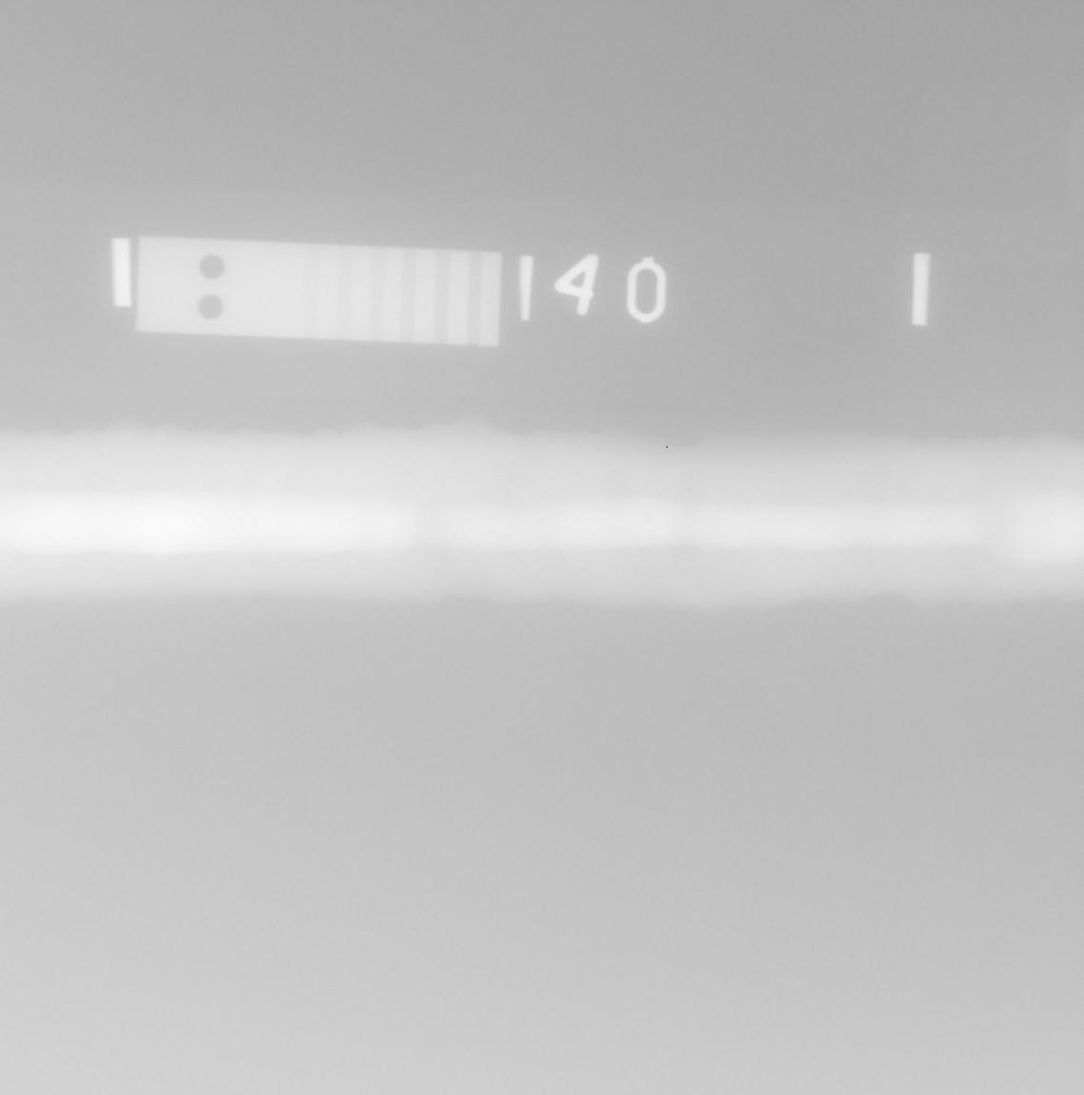Pore/Porosity: (642, 513, 650, 521), (923, 520, 932, 527)
Reference Standard 2: (138, 236, 502, 347)
